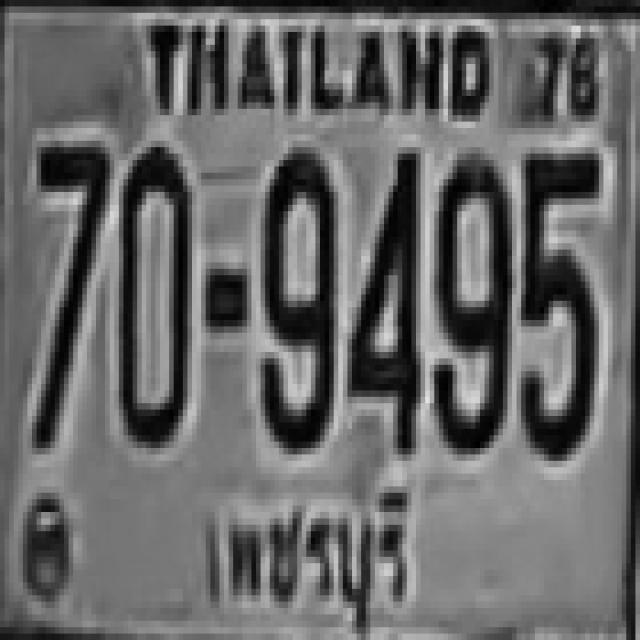0: (114, 140, 188, 442)
4: (343, 144, 416, 451)
5: (517, 148, 594, 454)
7: (28, 138, 105, 444)
9: (256, 147, 334, 448), (430, 150, 507, 452)
Phetchaburi: (192, 480, 425, 635)
